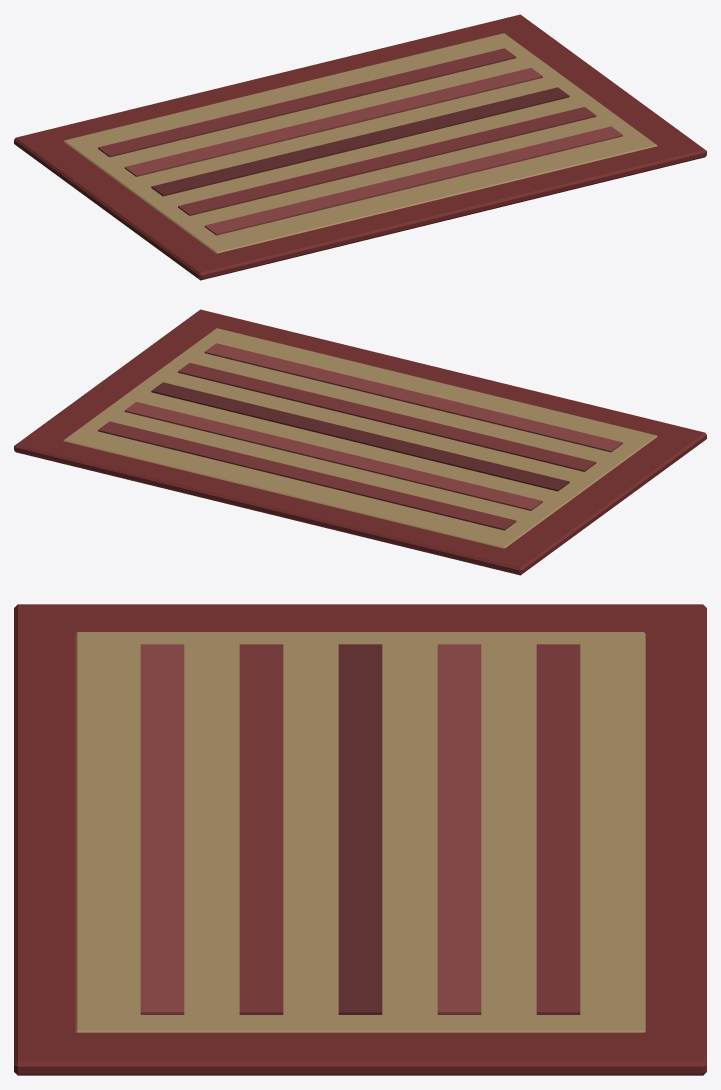
Rendered from Rug.glb.
3 renders of one model, top to bottom at view 1: azimuth 30°, elevation 25°; view 2: azimuth 150°, elevation 25°; view 3: azimuth 270°, elevation 25°, orthographic. The views are drawn at different scales.
Parts seen in each view (by area): view 1: Body; view 2: Body; view 3: Body.
Part boxes in pixels (bbox=[...]): Body: bbox=[14, 14, 706, 280]; Body: bbox=[14, 309, 706, 575]; Body: bbox=[14, 604, 706, 1075].
Size of what is drawn, in the model's own units: 5.5 by 0.105 by 3.5.
